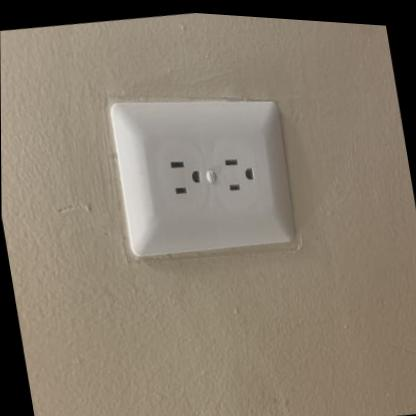OUTLET: (106, 74, 301, 273)
